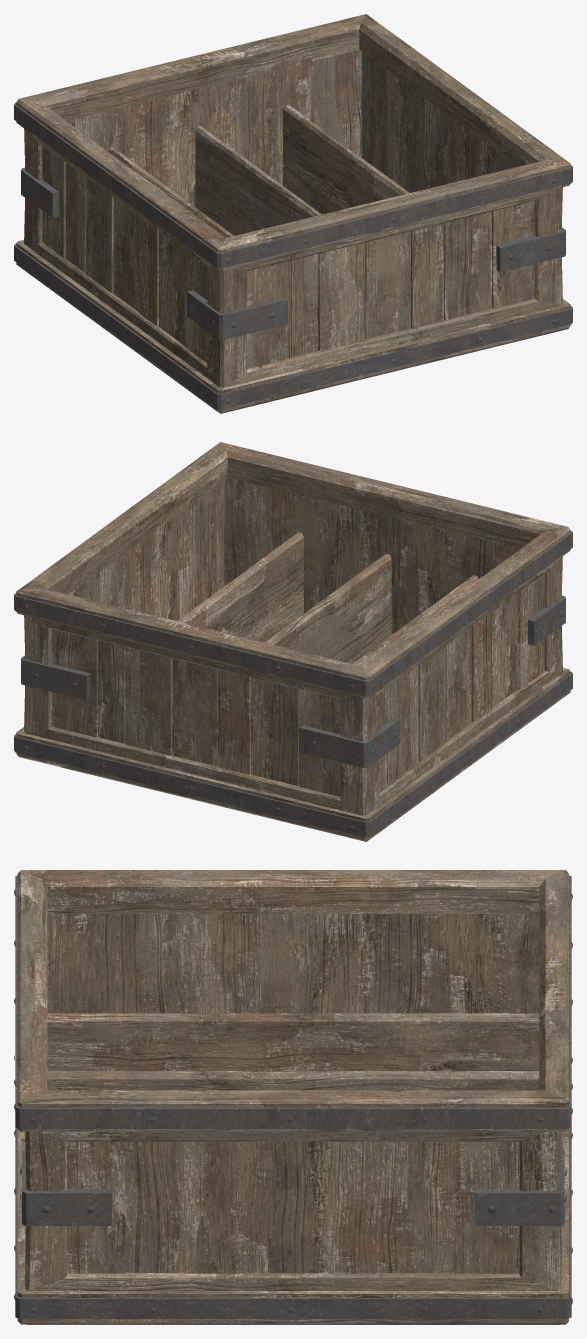
Rendered from SM_Crate_A_02.fbx.
3 renders of one model, top to bottom at view 1: azimuth 30°, elevation 25°; view 2: azimuth 150°, elevation 25°; view 3: azimuth 270°, elevation 25°, orthographic. The views are drawn at different scales.
Visible parts, largest first — view 1: SM_Crate_A_02_LOD0; view 2: SM_Crate_A_02_LOD0; view 3: SM_Crate_A_02_LOD0.
Boxes of the visible parts, box(x1,y1,x2,y2) form: SM_Crate_A_02_LOD0: box(14, 14, 572, 413); SM_Crate_A_02_LOD0: box(14, 442, 572, 841); SM_Crate_A_02_LOD0: box(14, 870, 572, 1324).
Size of the model in its own units: 90.22 by 90.64 by 40.82.
2 materials, 2 textured.
